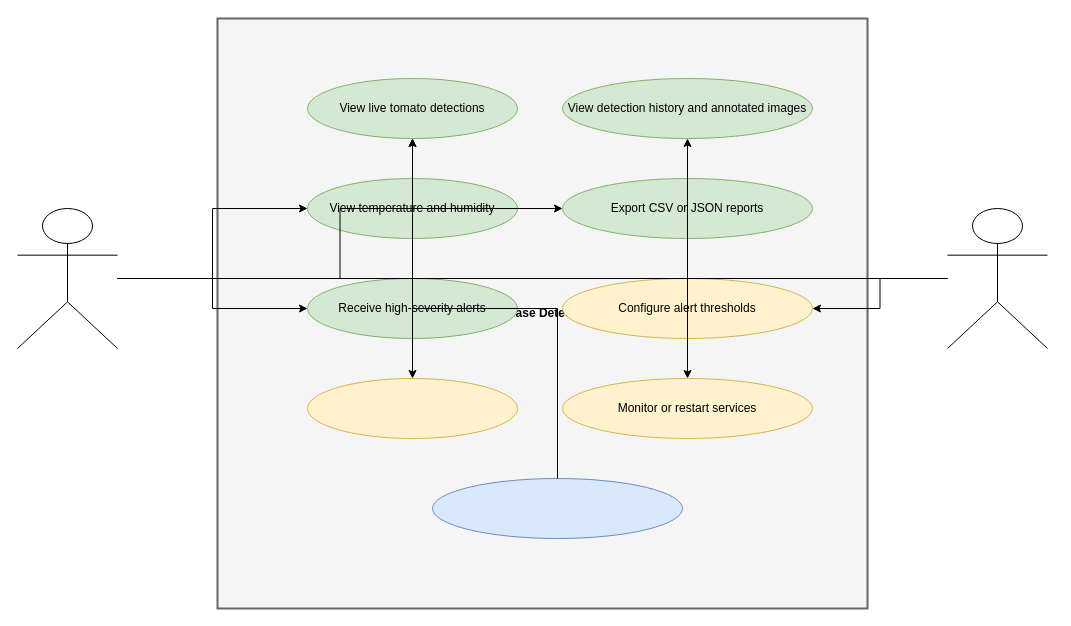
Image size: 1071x626. Some labels were removed from this diagram. Each missing label, with the centre of its shape:
Configure data retention: [412,408]
Farmer / Operator: [67,278]
Run tomato disease detection: [557,508]
System Administrator: [997,278]
